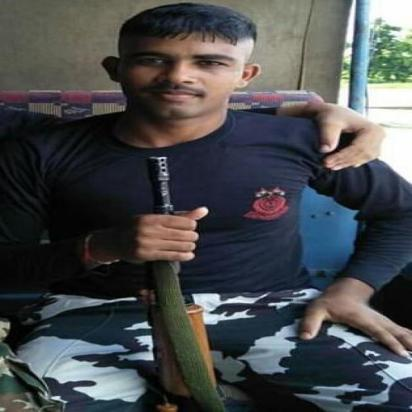Gun: (139, 153, 225, 412)
